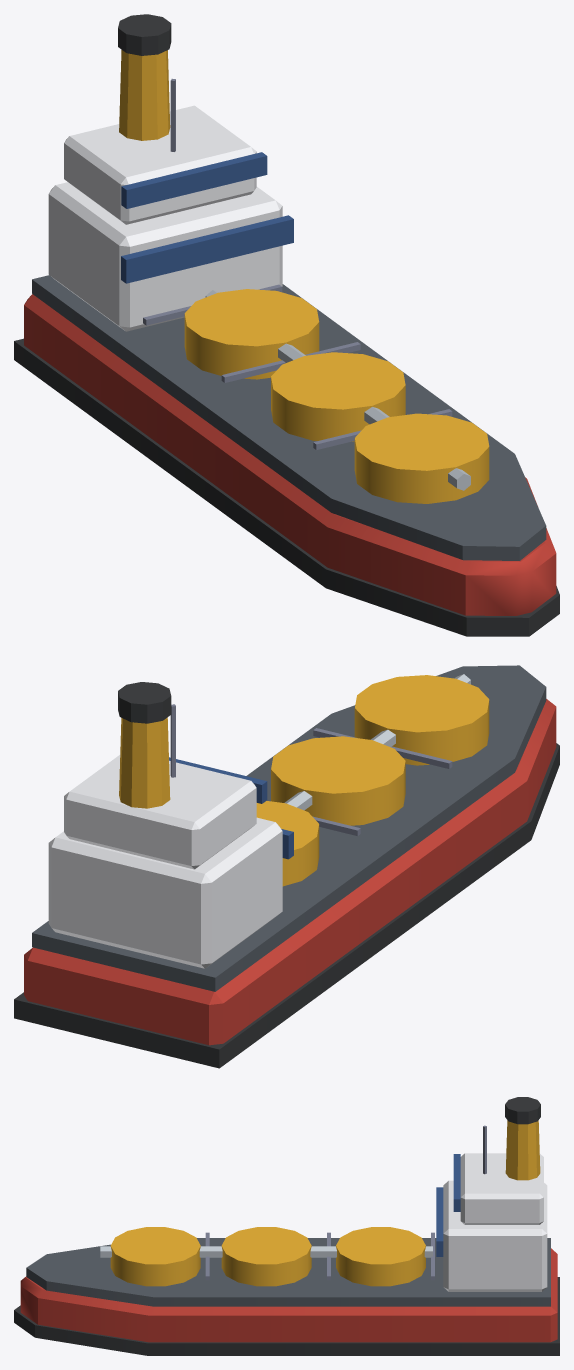
The model's file is oil-refinery.tanker.glb.
3 views of the same model, one above another, from view 1: azimuth 30°, elevation 25°; view 2: azimuth 150°, elevation 25°; view 3: azimuth 270°, elevation 25° (orthographic). The views are drawn at different scales.
Visible parts, largest first — view 1: model; view 2: model; view 3: model.
Boxes of the visible parts, x1=… form: model: x1=14, y1=14, x2=559, y2=636; model: x1=14, y1=665, x2=559, y2=1068; model: x1=14, y1=1097, x2=559, y2=1355.
Bounding box in the file's own units: 0.4532 × 0.695 × 1.58.
1 material, 1 textured.
